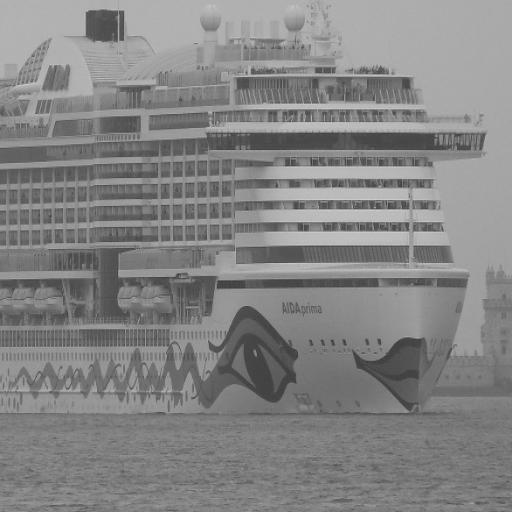cruises: (1, 5, 492, 426)
